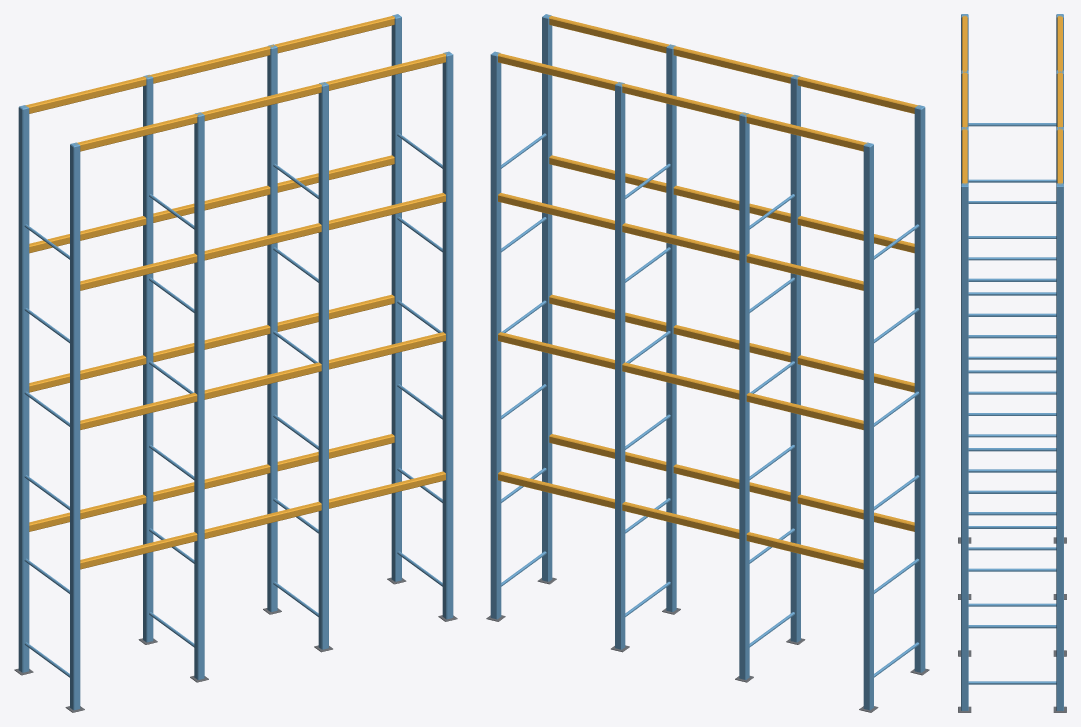
The model's file is porta_paletes_medio.glb.
3 renders of one model, left to right at view 1: azimuth 30°, elevation 25°; view 2: azimuth 150°, elevation 25°; view 3: azimuth 270°, elevation 25°, orthographic. The views are drawn at different scales.
Visible parts, largest first — view 1: estrutura; view 2: estrutura; view 3: estrutura.
Boxes of the visible parts, x1=… form: estrutura: x1=14, y1=14, x2=457, y2=712; estrutura: x1=486, y1=14, x2=929, y2=712; estrutura: x1=958, y1=14, x2=1066, y2=712.
Size of the model in its own units: 4.34 by 6.08 by 1.14.
